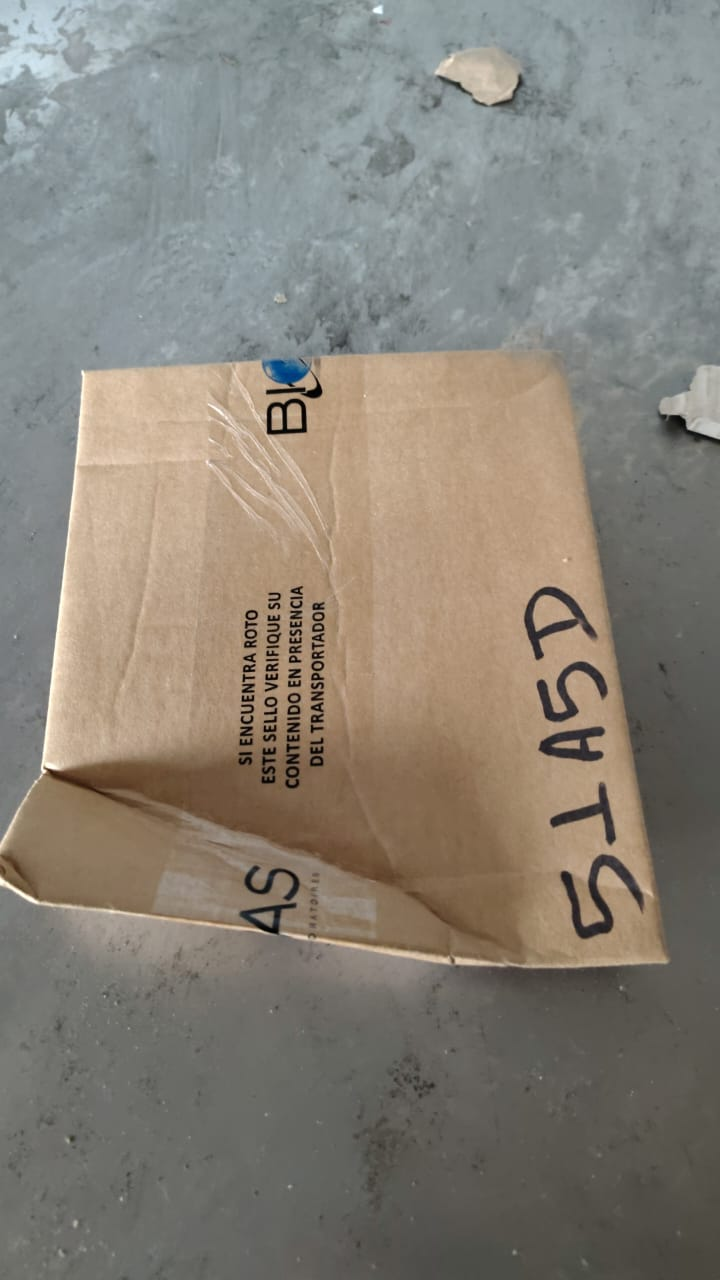Carton: (0, 348, 675, 973)
